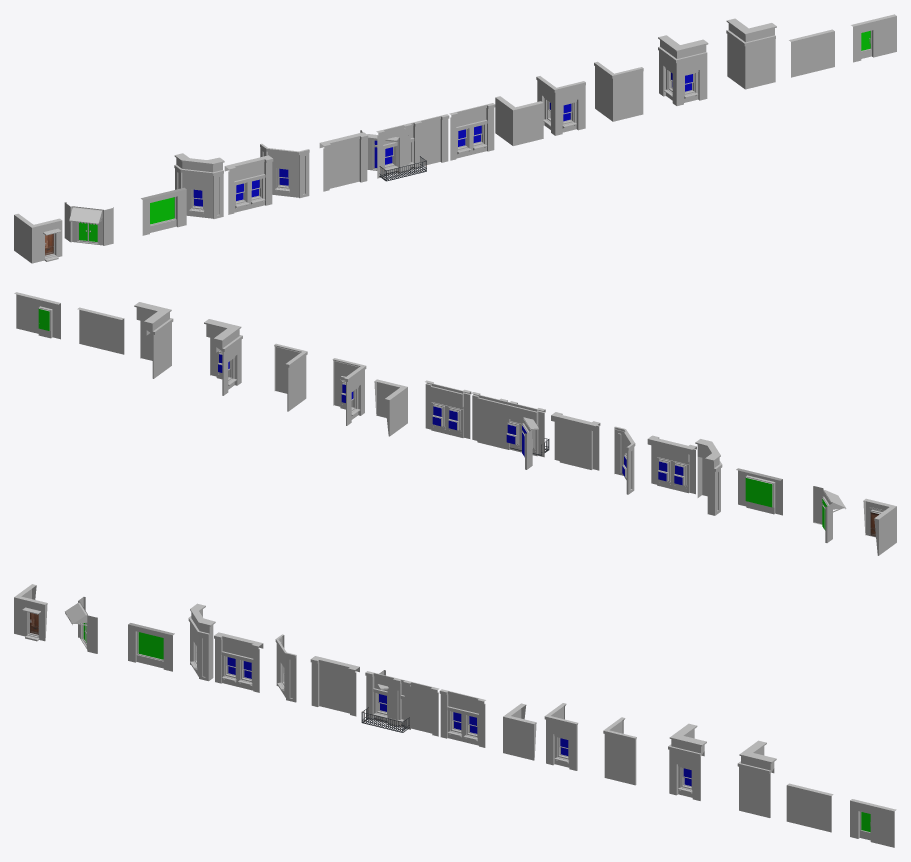
The model's file is Building06.fbx.
3 views of the same model, one above another, from view 1: azimuth 30°, elevation 25°; view 2: azimuth 150°, elevation 25°; view 3: azimuth 330°, elevation 25° (orthographic).
Visible parts, largest first — view 1: Building06j_CornerTop_B, Building06i_CornerTop_C, Building06b_CornerTop_A, Building06h_Corner_B, Building06d_WallTop_A, Building06p_WallTop_B, Building06g_Corner_C, Building06e_Wall_A, Building06m_CornerBottom_C, Building06f_CornerBottom_B, Building06c_Corner_A, Building06r_Wall_B (+6 smaller); view 2: Building06p_WallTop_B, Building06e_Wall_A, Building06d_WallTop_A, Building06j_CornerTop_B, Building06i_CornerTop_C, Building06h_Corner_B, Building06n_Wall_C, Building06g_Corner_C, Building06o_WallBottom_D, Building06a_WallBottom_A, Building06k_WallBottom_B, Building06b_CornerTop_A (+6 smaller); view 3: Building06p_WallTop_B, Building06d_WallTop_A, Building06e_Wall_A, Building06j_CornerTop_B, Building06i_CornerTop_C, Building06r_Wall_B, Building06o_WallBottom_D, Building06h_Corner_B, Building06k_WallBottom_B, Building06a_WallBottom_A, Building06g_Corner_C, Building06n_Wall_C (+5 smaller).
Boxes of the visible parts, x1,y1,x2,y2 form: Building06j_CornerTop_B: [726, 18, 776, 89]; Building06i_CornerTop_C: [658, 35, 708, 105]; Building06b_CornerTop_A: [174, 153, 224, 218]; Building06h_Corner_B: [594, 61, 643, 121]; Building06d_WallTop_A: [224, 155, 273, 214]; Building06p_WallTop_B: [319, 132, 368, 191]; Building06g_Corner_C: [536, 76, 585, 135]; Building06e_Wall_A: [449, 103, 495, 160]; Building06m_CornerBottom_C: [14, 213, 62, 263]; Building06f_CornerBottom_B: [495, 96, 543, 145]; Building06c_Corner_A: [260, 143, 309, 198]; Building06r_Wall_B: [376, 121, 426, 181]; Building06p_WallTop_B: [551, 412, 600, 470]; Building06e_Wall_A: [425, 380, 471, 438]; Building06d_WallTop_A: [647, 435, 696, 494]; Building06j_CornerTop_B: [134, 302, 173, 378]; Building06i_CornerTop_C: [204, 319, 242, 395]; Building06h_Corner_B: [274, 343, 307, 411]; Building06n_Wall_C: [471, 392, 517, 449]; Building06g_Corner_C: [332, 358, 366, 425]; Building06o_WallBottom_D: [77, 307, 124, 354]; Building06a_WallBottom_A: [736, 468, 782, 515]; Building06k_WallBottom_B: [14, 292, 60, 339]; Building06b_CornerTop_A: [695, 439, 722, 515]; Building06p_WallTop_B: [310, 656, 359, 716]; Building06d_WallTop_A: [214, 632, 263, 692]; Building06e_Wall_A: [439, 689, 485, 747]; Building06j_CornerTop_B: [737, 740, 776, 817]; Building06i_CornerTop_C: [668, 723, 706, 800]; Building06r_Wall_B: [361, 671, 411, 732]; Building06o_WallBottom_D: [786, 783, 833, 832]; Building06h_Corner_B: [603, 717, 636, 785]; Building06k_WallBottom_B: [850, 799, 896, 847]; Building06a_WallBottom_A: [128, 623, 174, 671]; Building06g_Corner_C: [544, 703, 578, 770]; Building06n_Wall_C: [393, 678, 439, 736].
Bounding box in the file's own units: 88.49 × 5.4 × 4.42.
